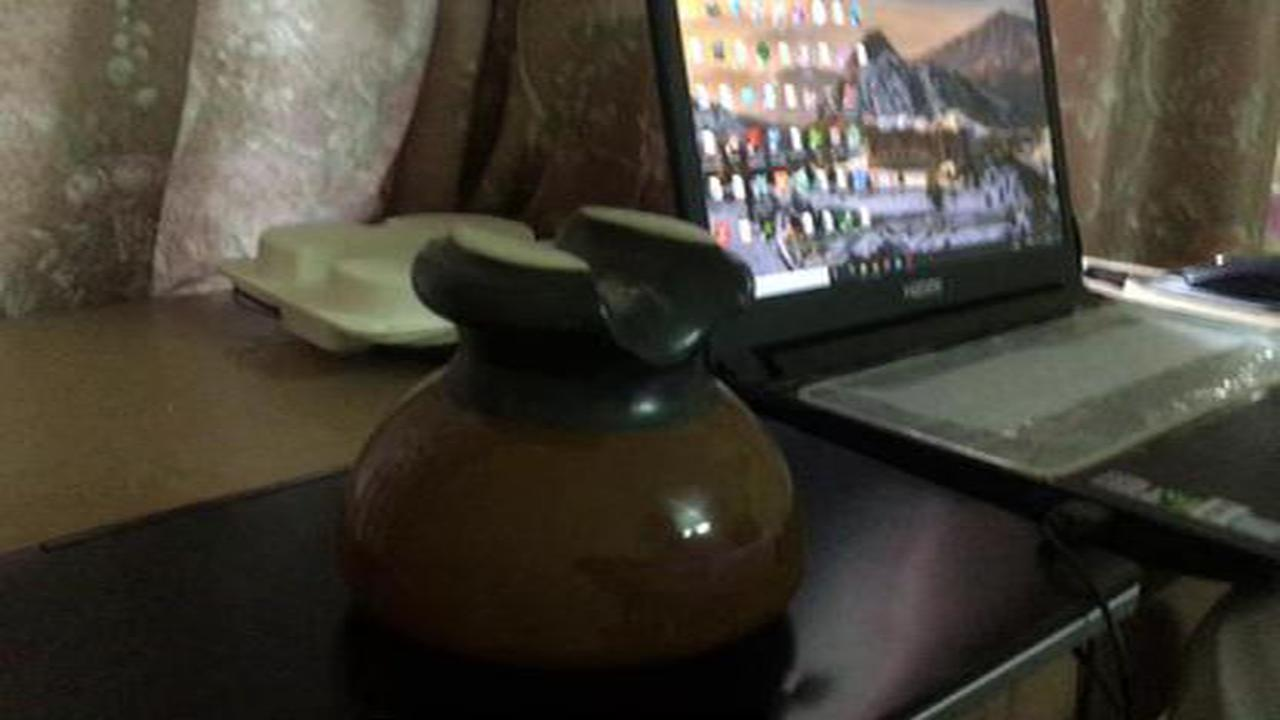insulator_pin: (317, 194, 831, 689)
